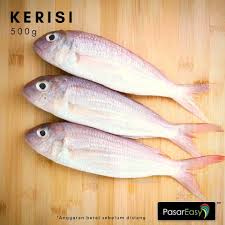Ikan Kerisi: (20, 122, 222, 194), (15, 70, 207, 132), (26, 27, 193, 77)
